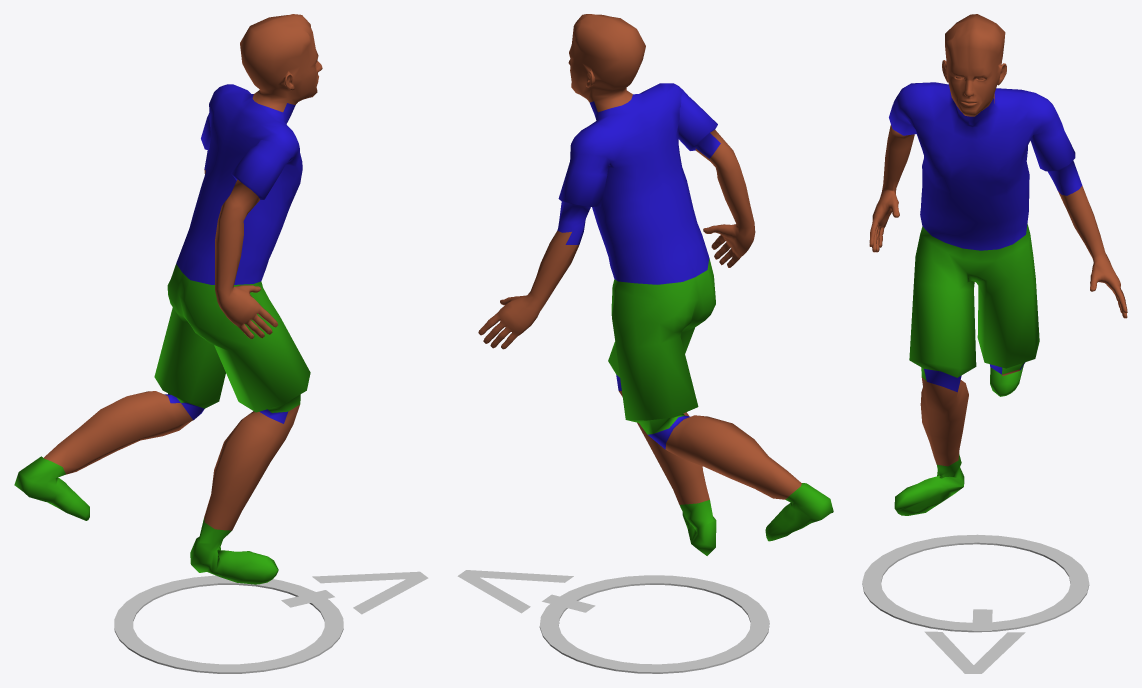
File: playerAI_000013.obj
3 renders of one model, left to right at view 1: azimuth 30°, elevation 25°; view 2: azimuth 150°, elevation 25°; view 3: azimuth 270°, elevation 25°, orthographic.
Visible parts, largest first — view 1: soccerplayer.003_mesh.002, Circle.001, Text_Mesh; view 2: soccerplayer.003_mesh.002, Circle.001, Text_Mesh; view 3: soccerplayer.003_mesh.002, Circle.001, Text_Mesh.
Boxes of the visible parts, bbox=[...] form: soccerplayer.003_mesh.002: bbox=[14, 14, 322, 584]; Circle.001: bbox=[114, 575, 343, 673]; Text_Mesh: bbox=[281, 571, 428, 614]; soccerplayer.003_mesh.002: bbox=[478, 14, 833, 555]; Circle.001: bbox=[539, 575, 769, 673]; Text_Mesh: bbox=[457, 570, 595, 613]; soccerplayer.003_mesh.002: bbox=[869, 14, 1127, 515]; Circle.001: bbox=[862, 534, 1089, 632]; Text_Mesh: bbox=[924, 609, 1025, 673].
Size of the model in its own units: 2.11 by 3.1 by 1.27.
